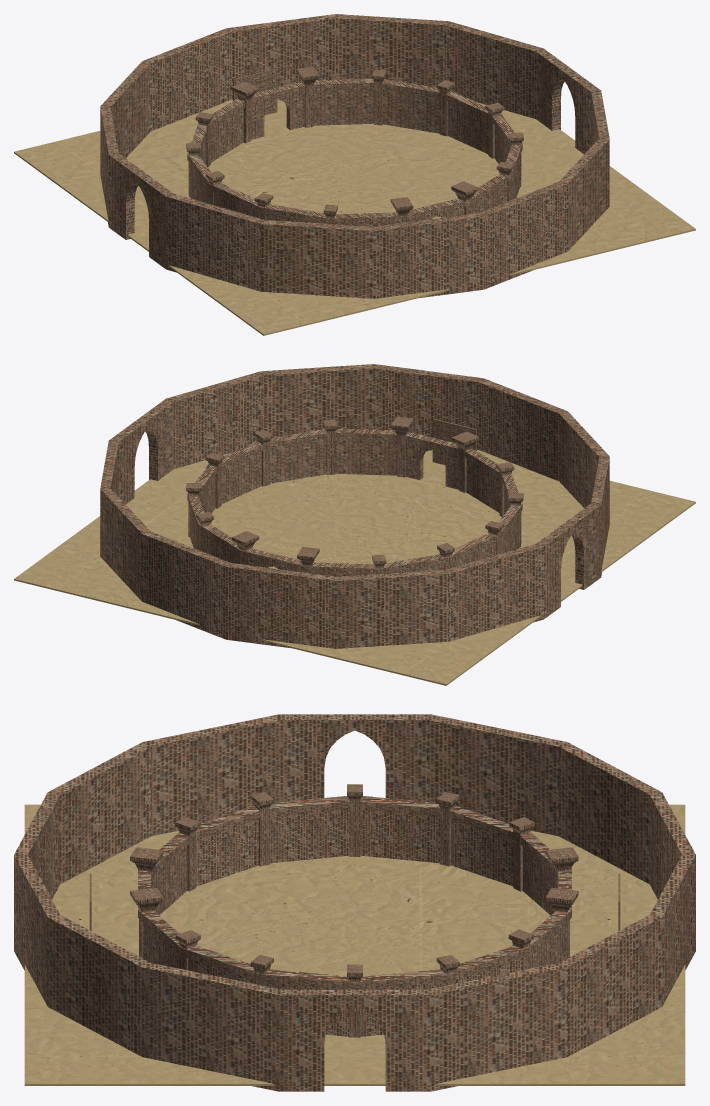
The model's file is Tougijou22.fbx.
3 views of the same model, one above another, from view 1: azimuth 30°, elevation 25°; view 2: azimuth 150°, elevation 25°; view 3: azimuth 270°, elevation 25° (orthographic). The views are drawn at different scales.
Parts seen in each view (by area): view 1: pCylinder6, pCube15, pCylinder4, pCylinder5, pCube29, pCube17, pCube18, pCube24, pCube25; view 2: pCylinder6, pCube15, pCylinder4, pCylinder5, pCube28, pCube16, pCube5, pCube22, pCube23; view 3: pCylinder6, pCube15, pCylinder4, pCylinder5, pCube20, pCube26, pCube19, pCube27, pCube13, pCube16, pCube18, pCube17 (+2 smaller).
Part boxes in pixels (box(x1,y1,x2,y2)): pCylinder6: box(100, 14, 609, 298); pCube15: box(14, 99, 695, 335); pCylinder4: box(190, 88, 520, 226); pCylinder5: box(187, 78, 522, 224); pCube29: box(233, 68, 277, 114); pCube17: box(296, 67, 319, 127); pCube18: box(231, 81, 258, 143); pCube24: box(436, 80, 454, 136); pCube25: box(372, 70, 386, 125); pCylinder6: box(100, 364, 609, 648); pCube15: box(14, 449, 695, 685); pCylinder4: box(189, 438, 519, 576); pCylinder5: box(187, 428, 522, 574); pCube28: box(432, 418, 476, 464); pCube16: box(391, 416, 413, 477); pCube5: box(451, 431, 478, 492); pCube22: box(323, 419, 337, 474); pCube23: box(254, 430, 272, 486); pCylinder6: box(14, 714, 695, 1091); pCube15: box(24, 804, 685, 1085); pCylinder4: box(143, 809, 569, 1036); pCylinder5: box(138, 796, 571, 989); pCube20: box(347, 784, 362, 856); pCube26: box(436, 792, 459, 866); pCube19: box(250, 792, 273, 866); pCube27: box(509, 817, 534, 891); pCube13: box(175, 817, 200, 891); pCube16: box(130, 888, 163, 958); pCube18: box(545, 847, 578, 888); pCube17: box(545, 888, 578, 958).
Size of the model in its own units: 30.19 by 5.19 by 30.97.
